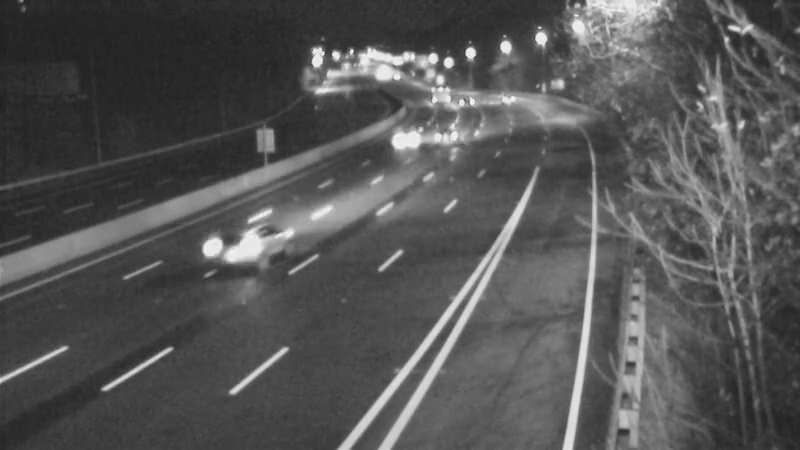vehicle: (203, 210, 283, 290), (475, 70, 525, 120), (410, 68, 460, 118), (435, 77, 485, 127), (422, 114, 472, 164), (375, 108, 425, 158)
